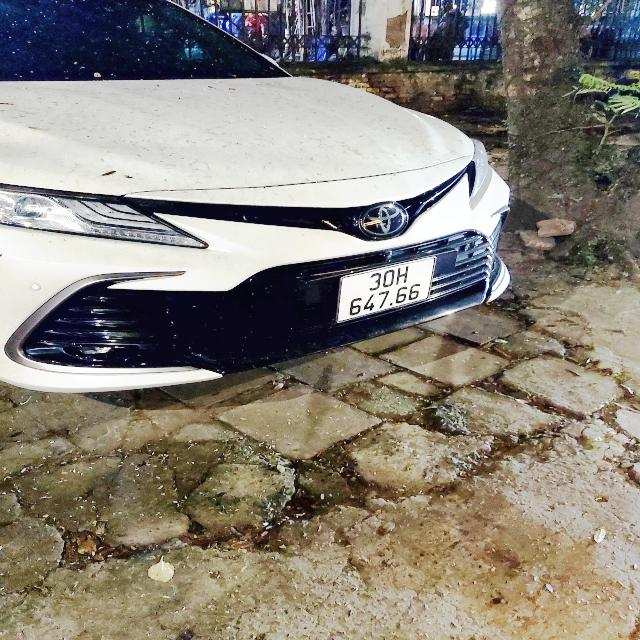license_plate: (334, 254, 441, 327)
